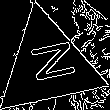N_W: (20, 40, 76, 90)
